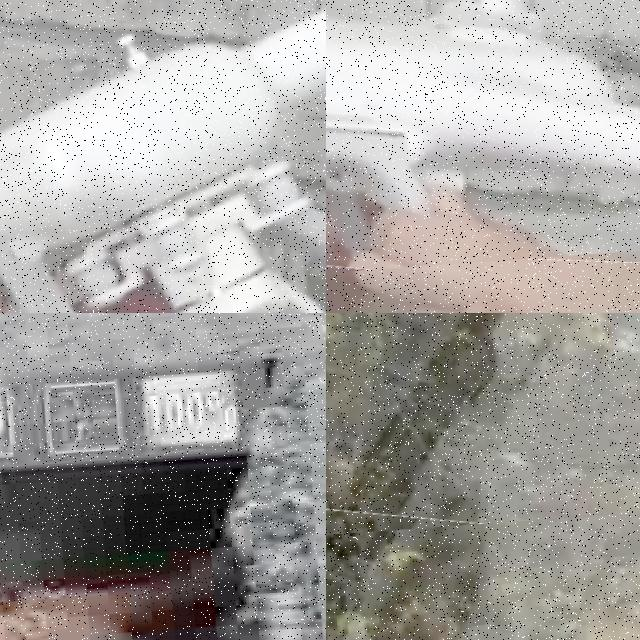drone: (0, 0, 326, 313), (326, 0, 640, 290), (326, 313, 640, 544)
